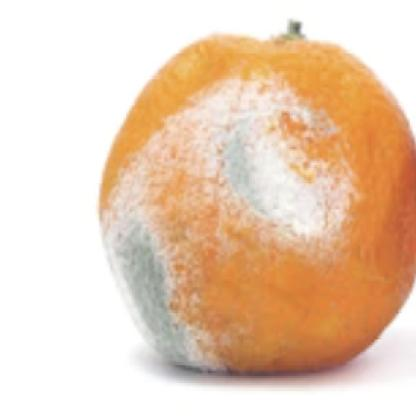fresh: (101, 36, 416, 376)
